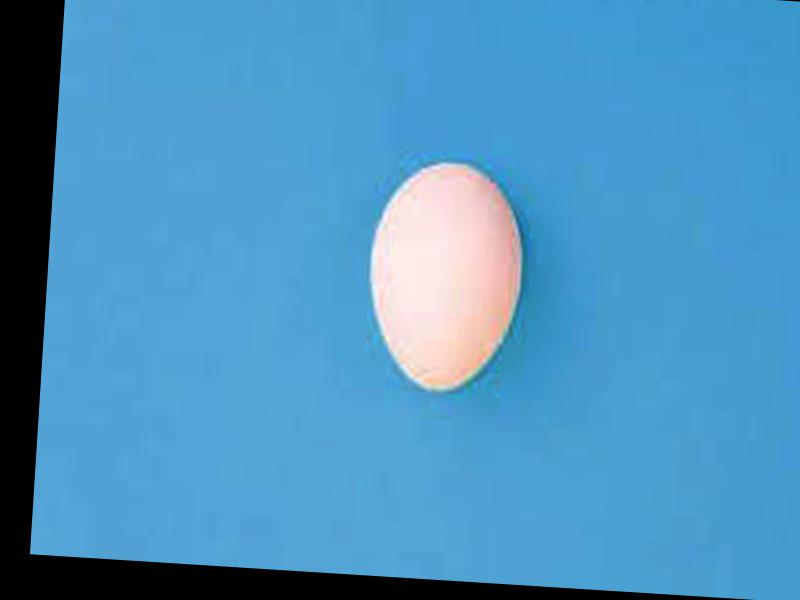Eggs: (364, 158, 530, 400)
